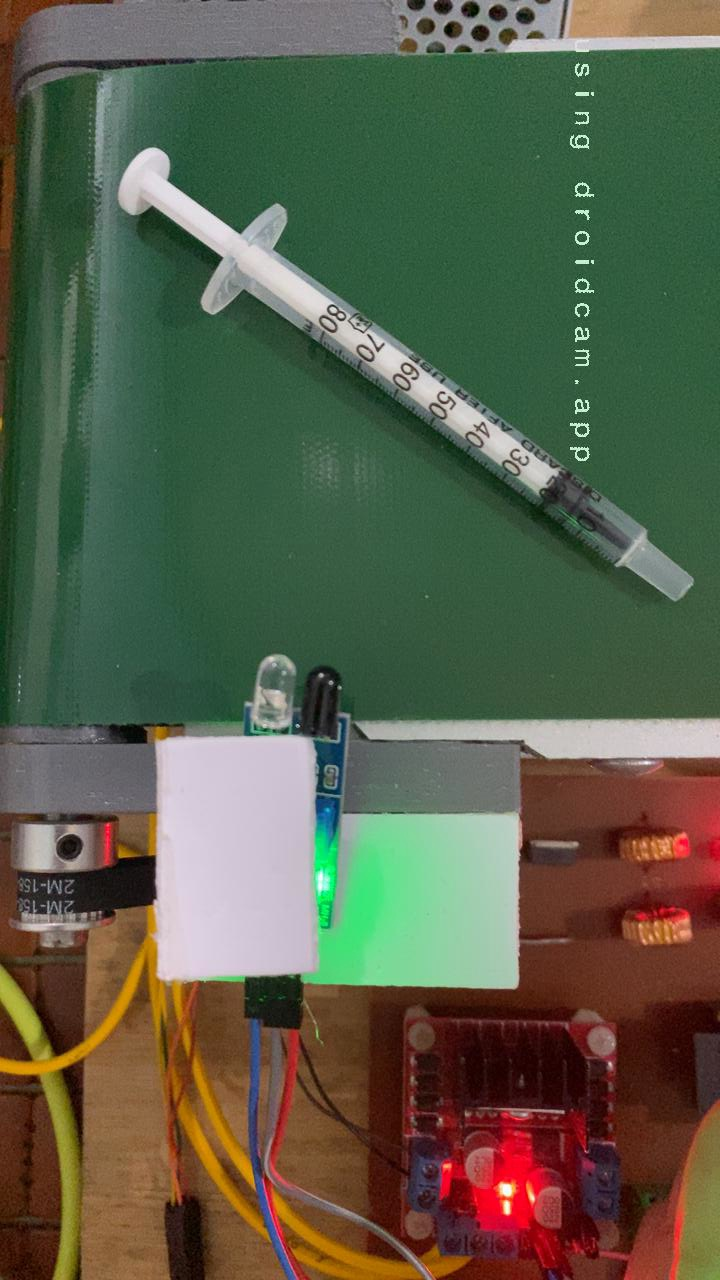syringe: (109, 141, 702, 605)
